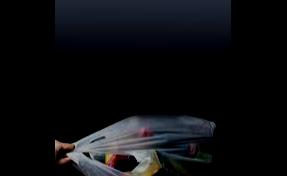Plastic: (62, 107, 221, 175)
